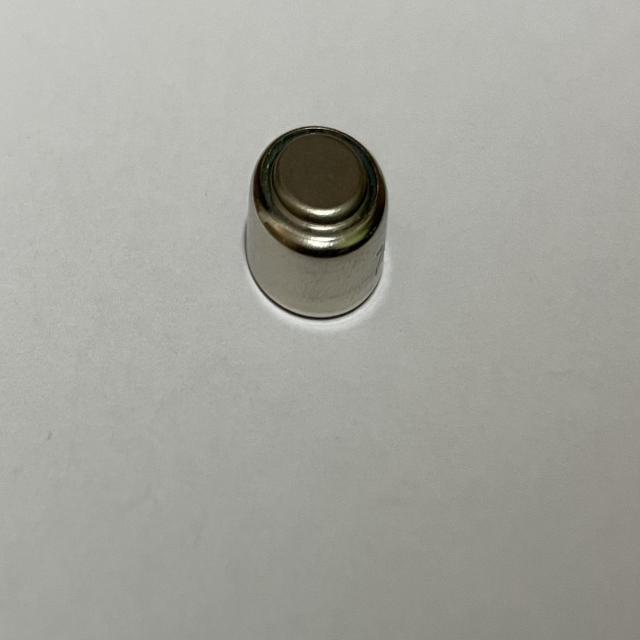COIN: (244, 124, 389, 325)
